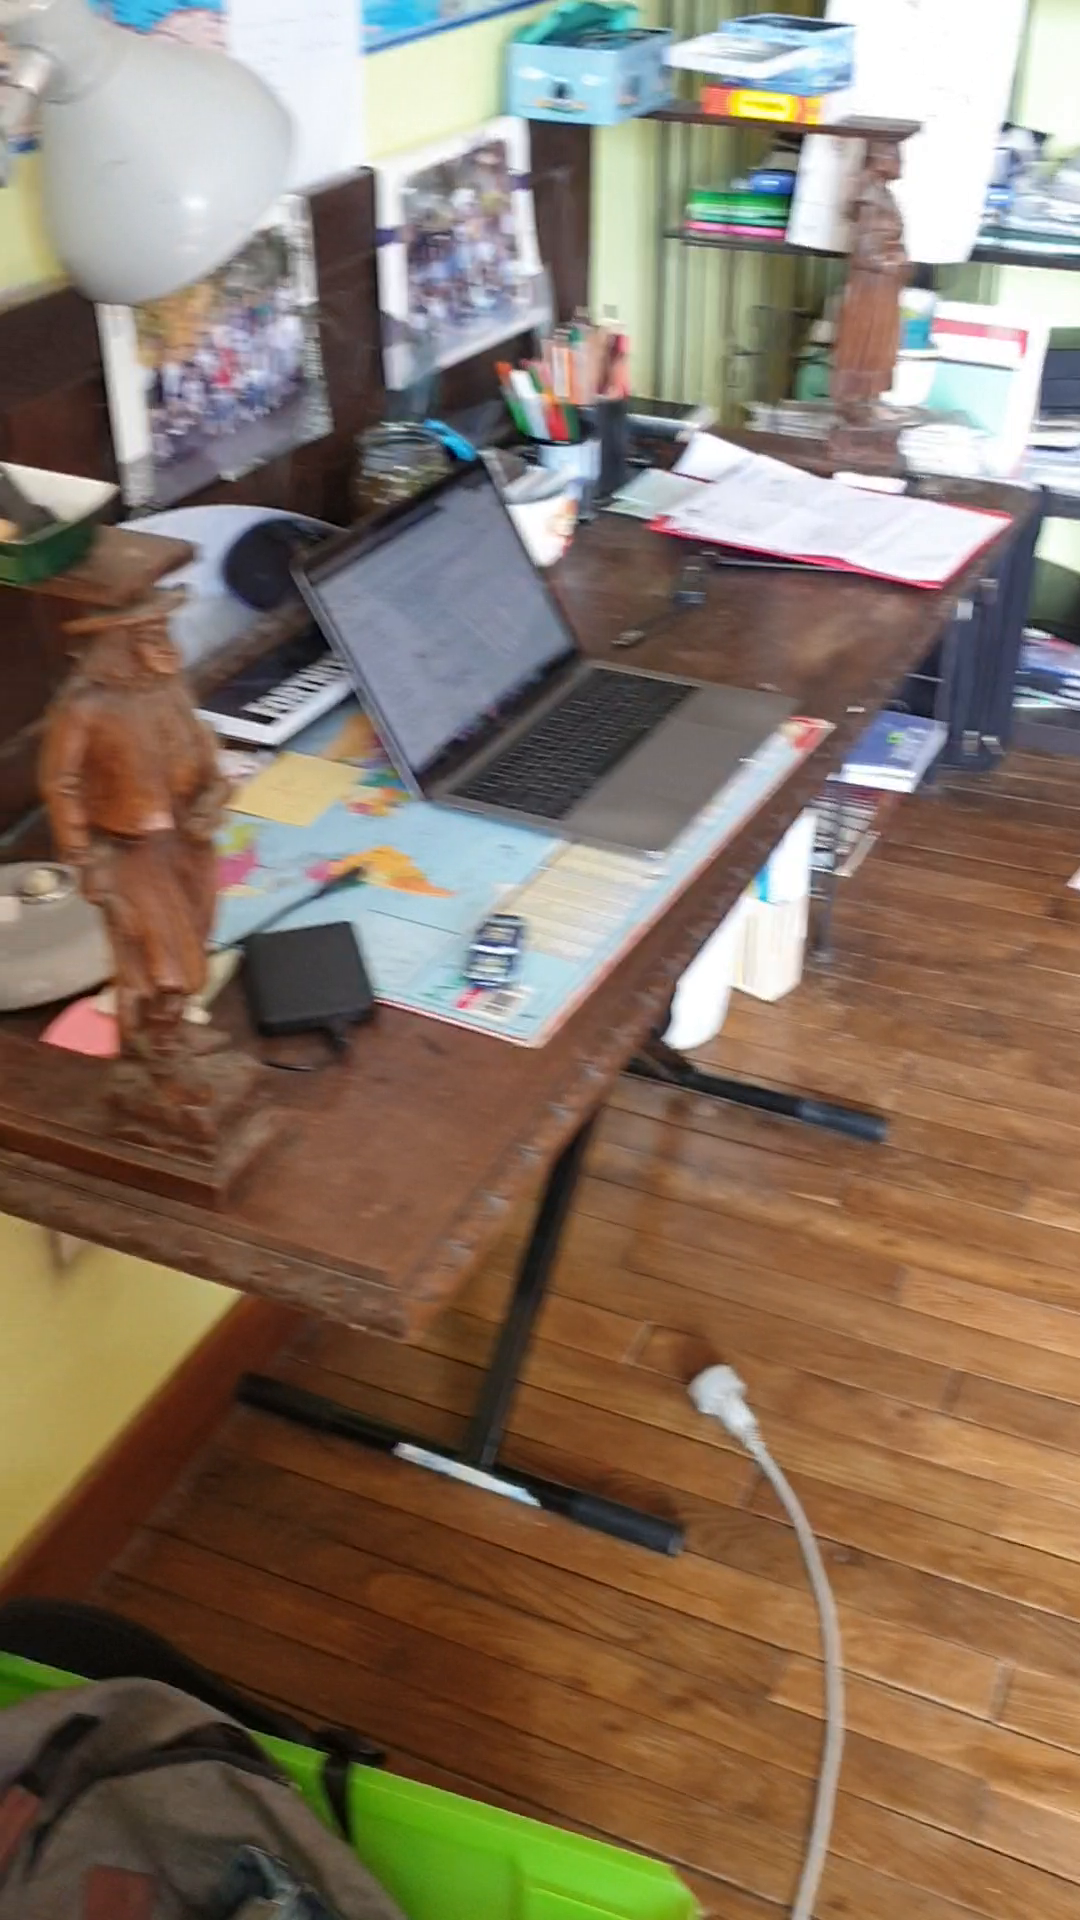cars: (463, 913, 529, 989)
